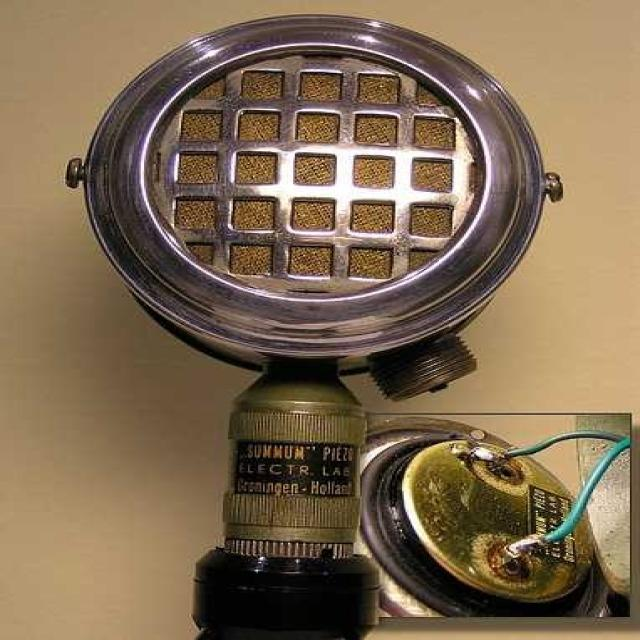microphone: (69, 17, 596, 638)
